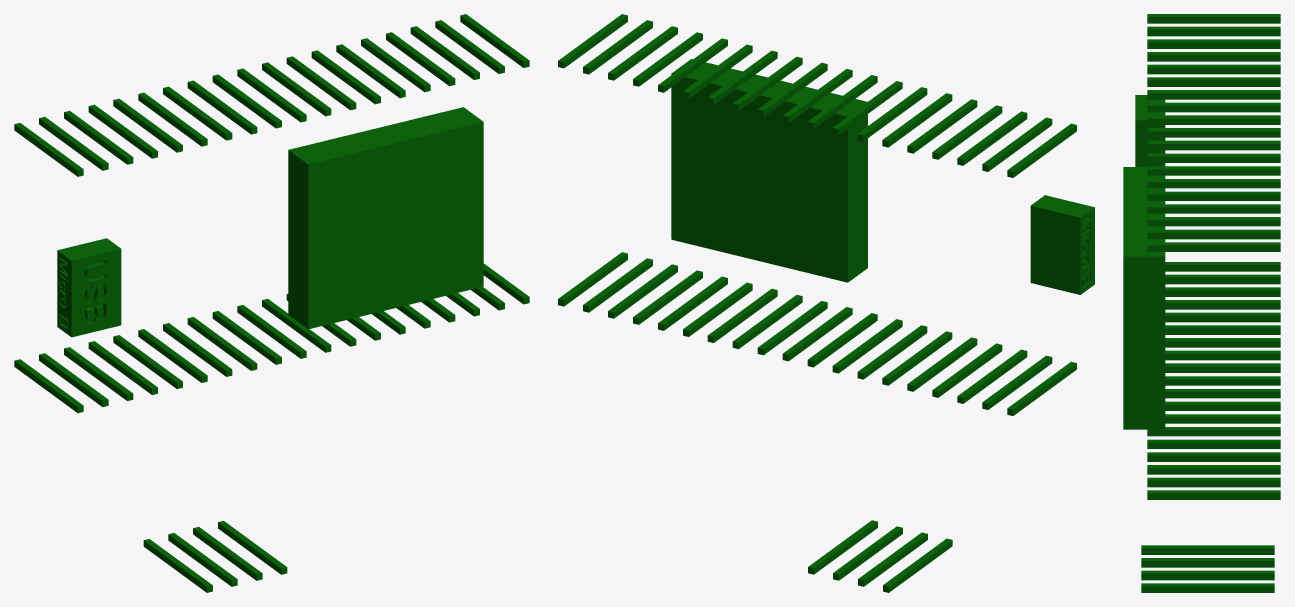
File: Motor_box_12.obj
The picture shows the model from 3 angles, left to right: view 1: azimuth 30°, elevation 25°; view 2: azimuth 150°, elevation 25°; view 3: azimuth 270°, elevation 25°; orthographic projection. The views are drawn at different scales.
Bounding box in the file's own units: 46.8 × 43.5 × 13.1.
